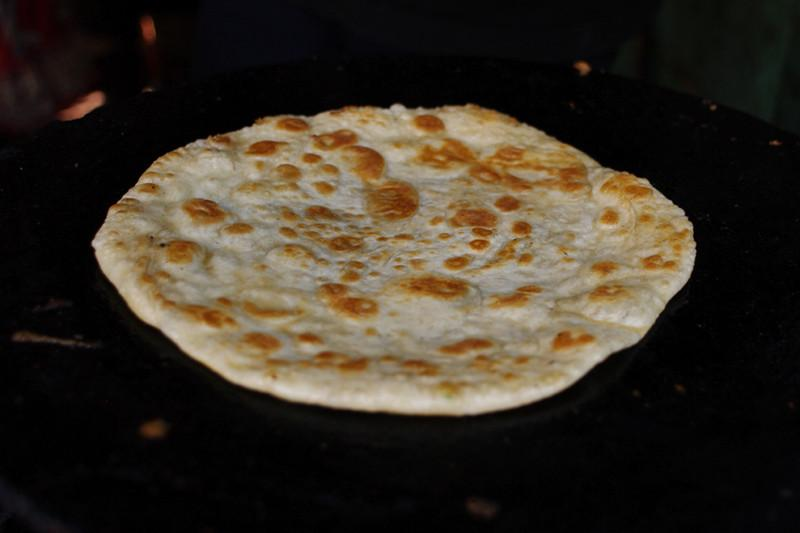roti: (86, 101, 707, 420)
